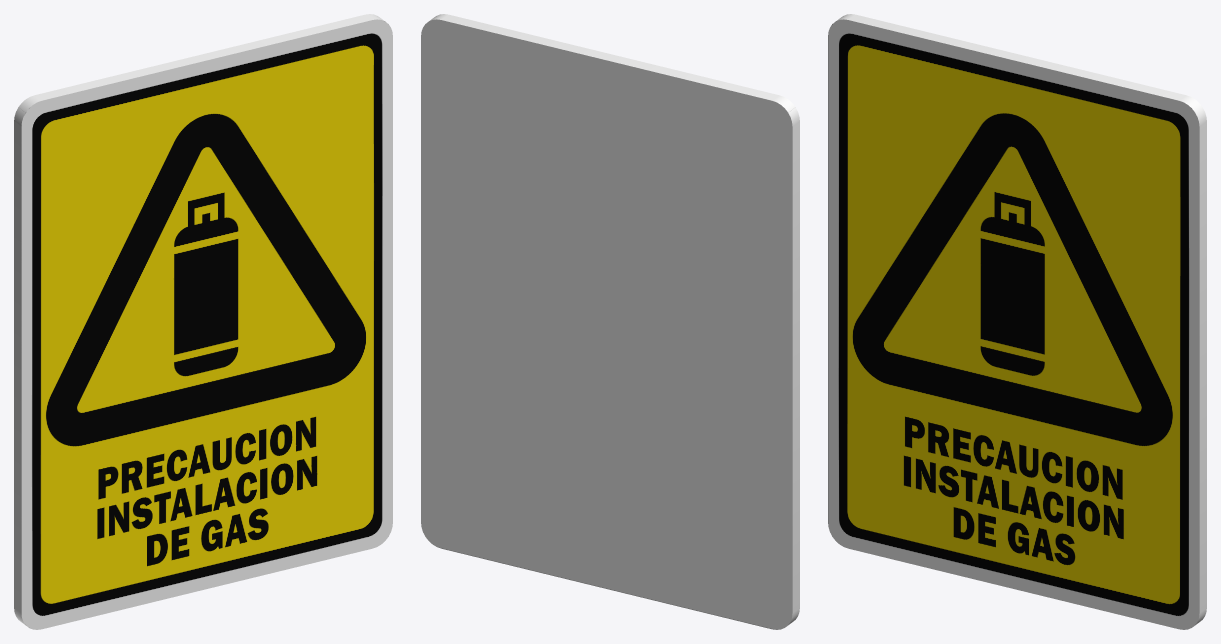
File: señales7.fbx
3 views of the same model, side by side, from view 1: azimuth 30°, elevation 25°; view 2: azimuth 150°, elevation 25°; view 3: azimuth 330°, elevation 25° (orthographic).
Bounding box in the file's own units: 14.71 × 20 × 0.5095.
